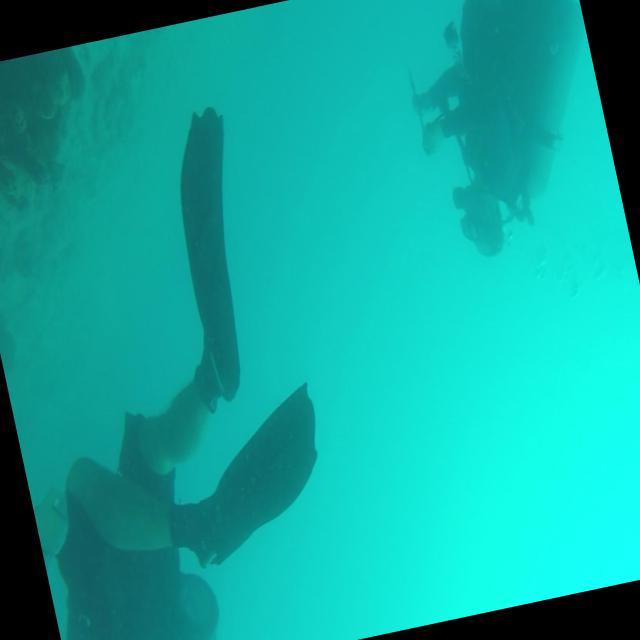human: (0, 98, 363, 640), (385, 0, 628, 268)
